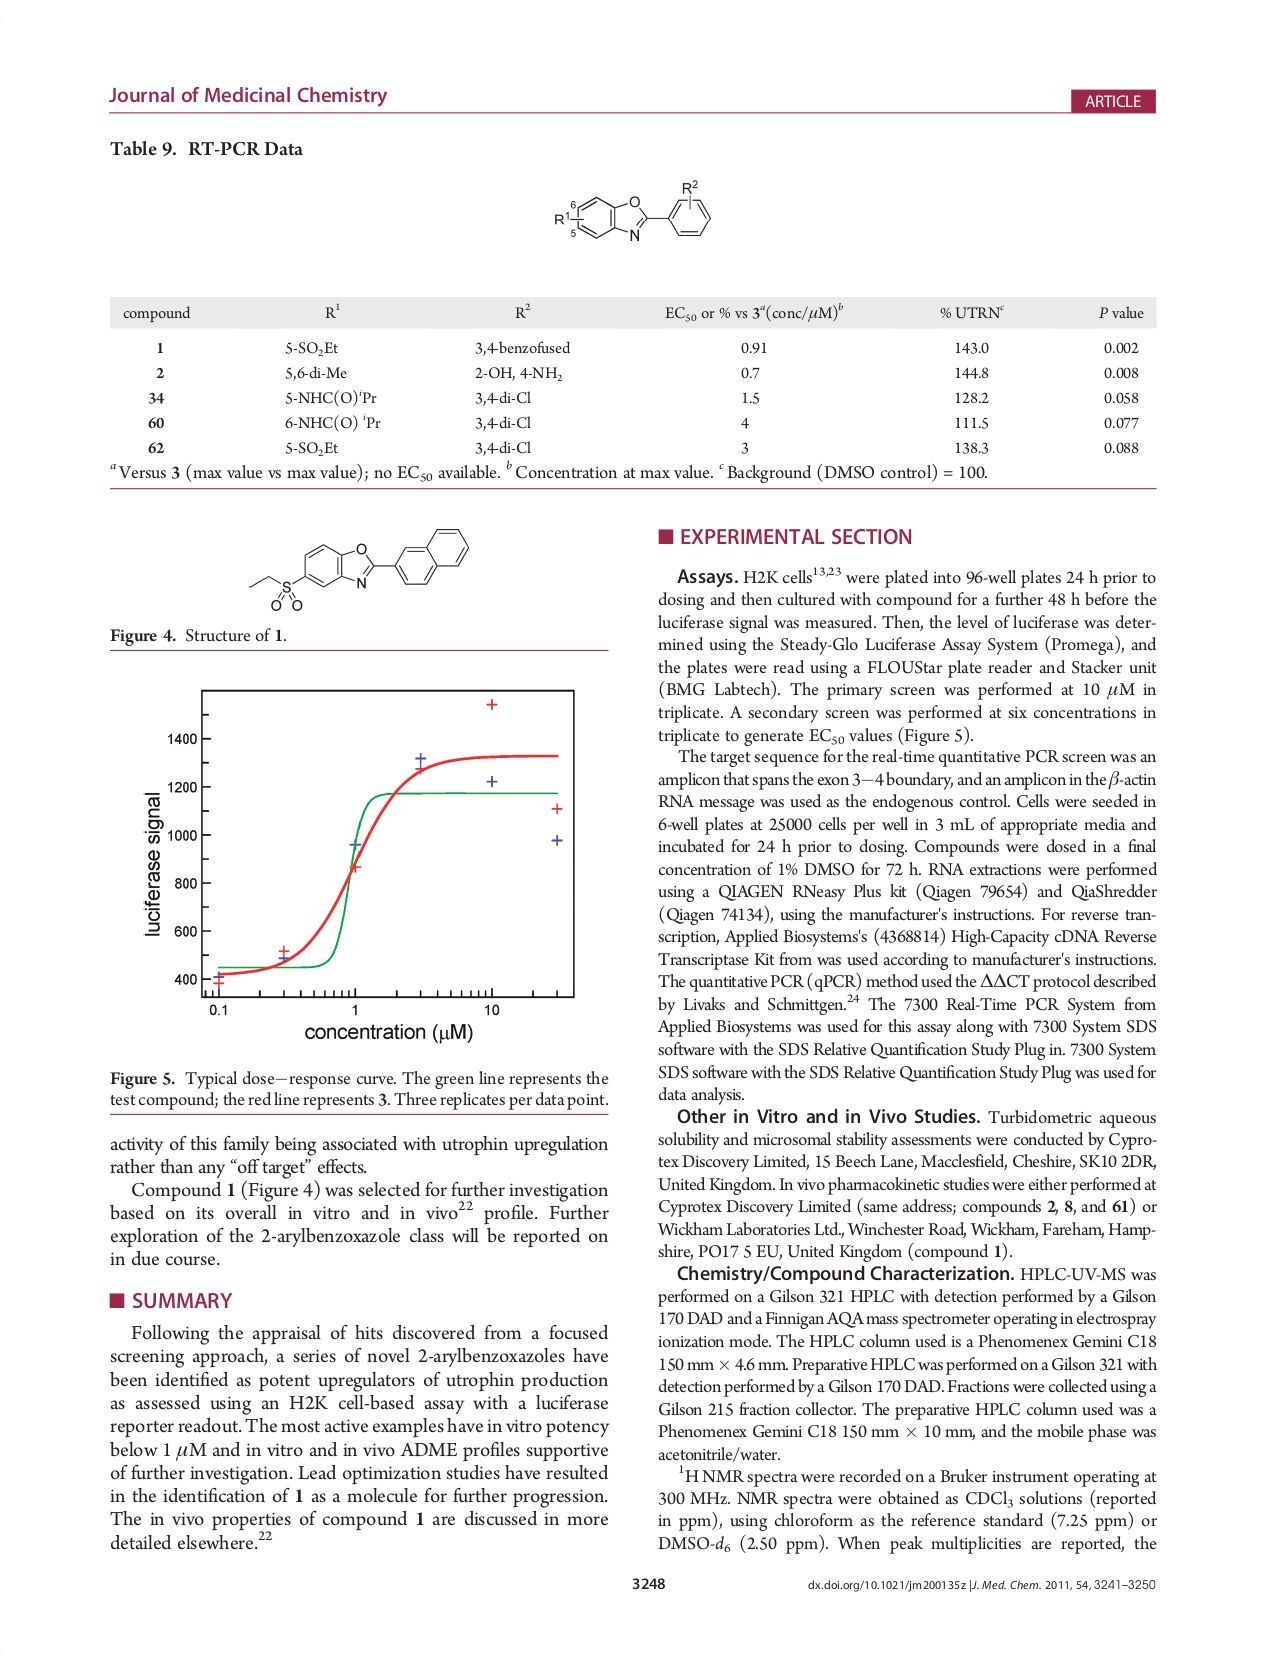exist_molecular: (245, 525, 469, 613), (549, 178, 715, 250)
